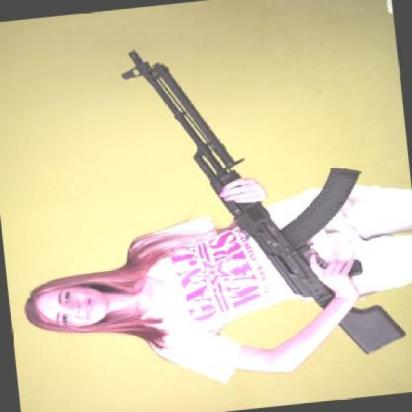Gun: (140, 72, 383, 352)
